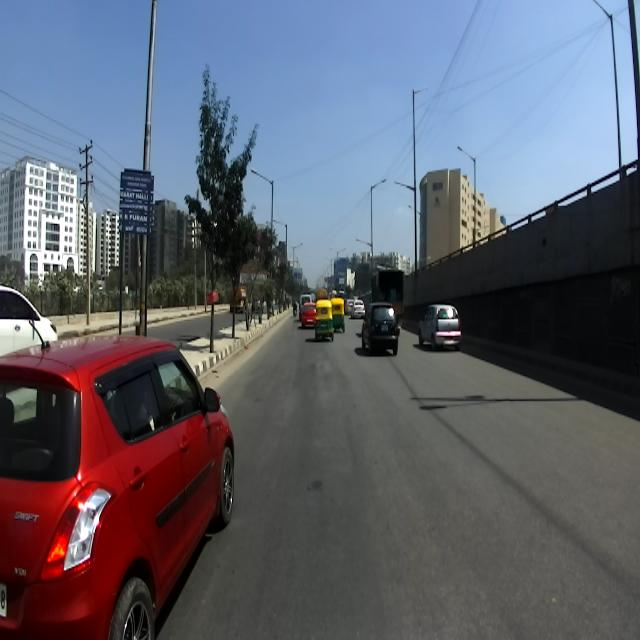auto ahead at: (308, 294, 338, 340)
car ahead at: (0, 338, 240, 639), (359, 303, 398, 350)
